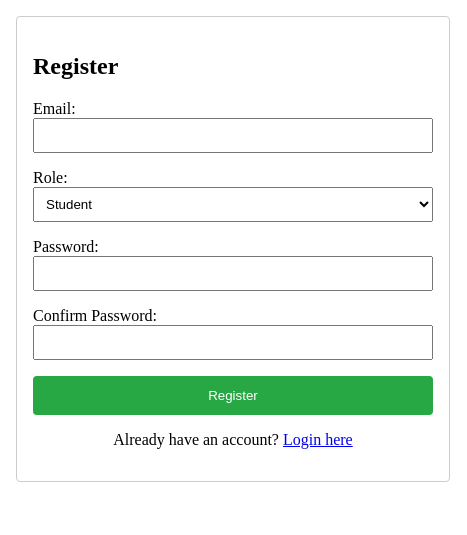
Test: Register Page › shows validation errors when fields are empty or invalid
Click the button "Register" at (233, 395), box [33, 376, 433, 415]
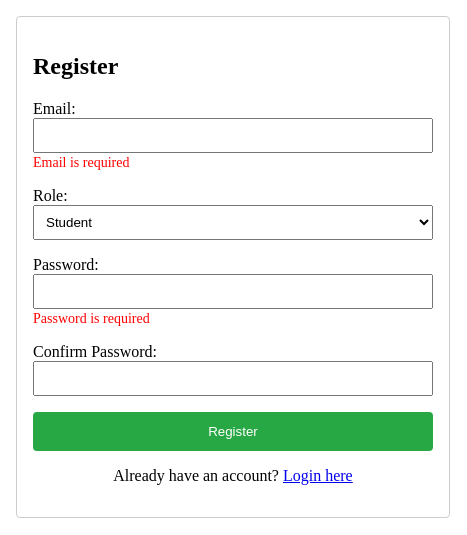
Check: the text "Email is required" is shown, box [33, 155, 129, 170]
Check: the text "Password is required" is shown, box [33, 311, 150, 326]
